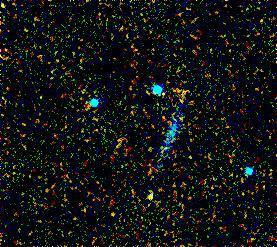star: (149, 79, 179, 109)
